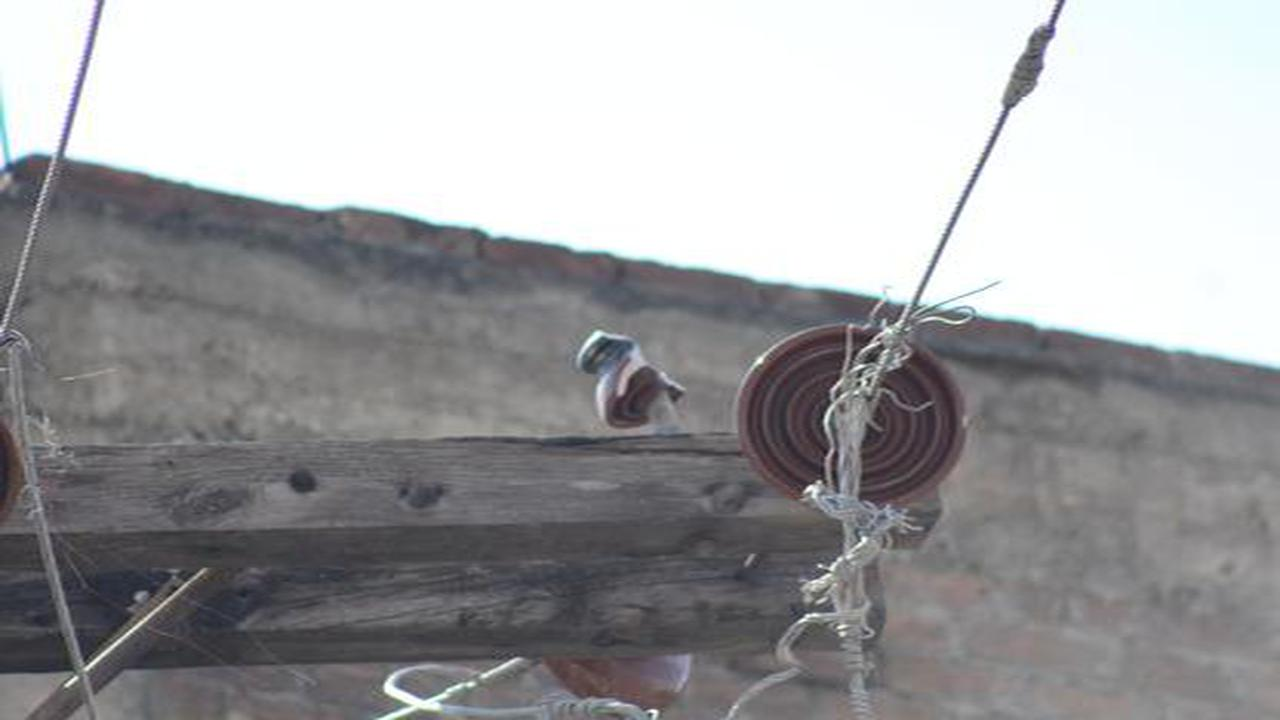defect_pin: (569, 318, 696, 435)
insulator_disc: (730, 309, 990, 531)
